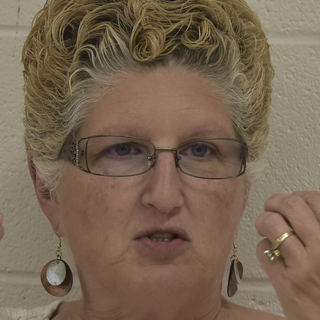eye: (94, 134, 142, 165), (176, 138, 217, 166)
